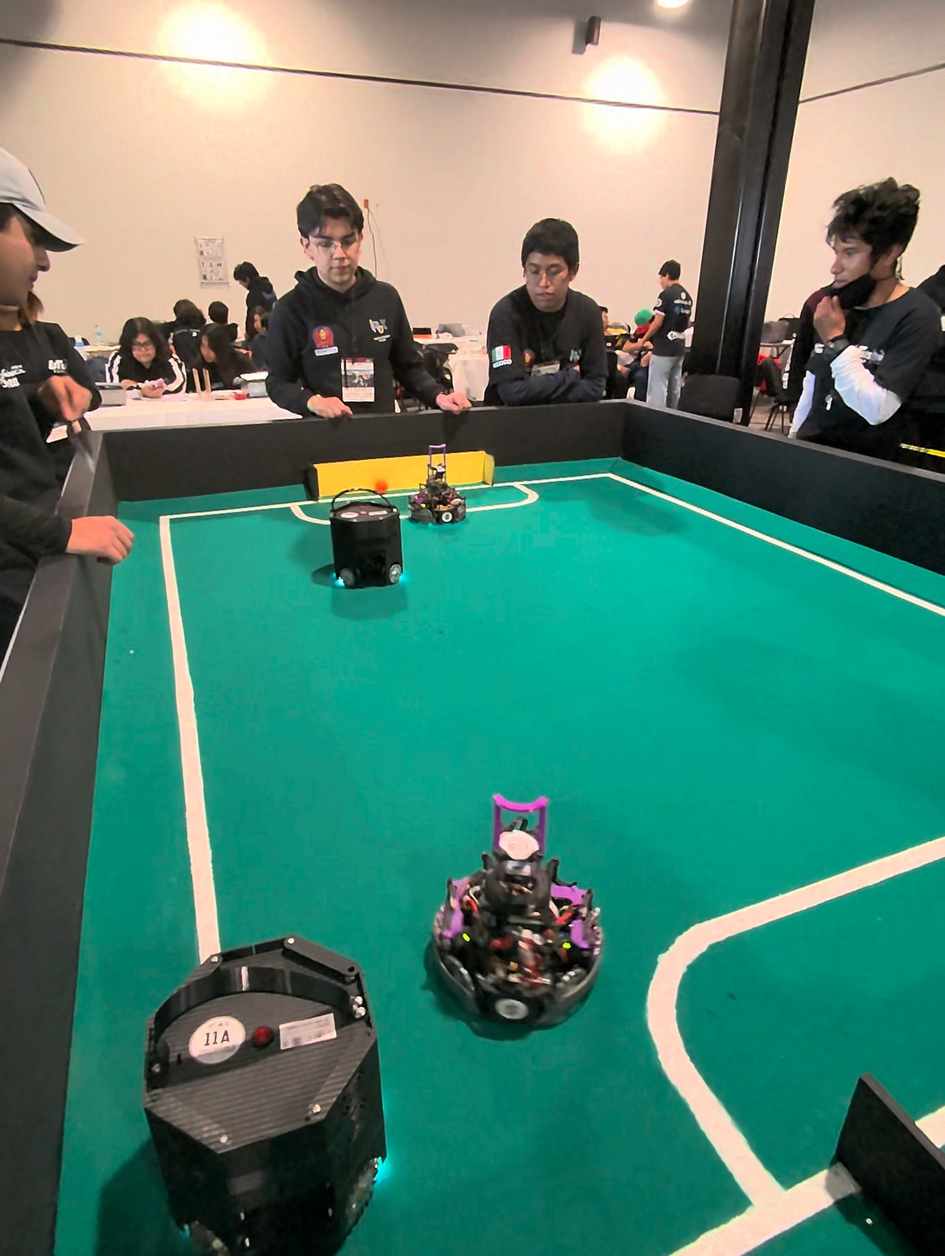Robot: (109, 899, 410, 1256), (433, 819, 604, 1047), (301, 473, 418, 600), (408, 453, 470, 530)
